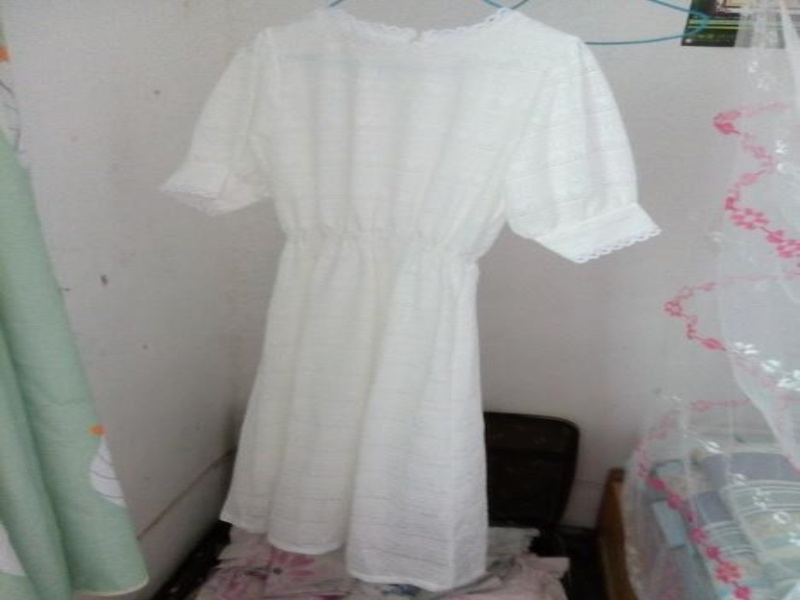short_sleeved_dress: (147, 6, 672, 599)
